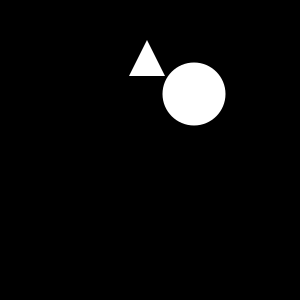rectangle: (162, 63, 225, 126)
triangle: (129, 40, 165, 76)
